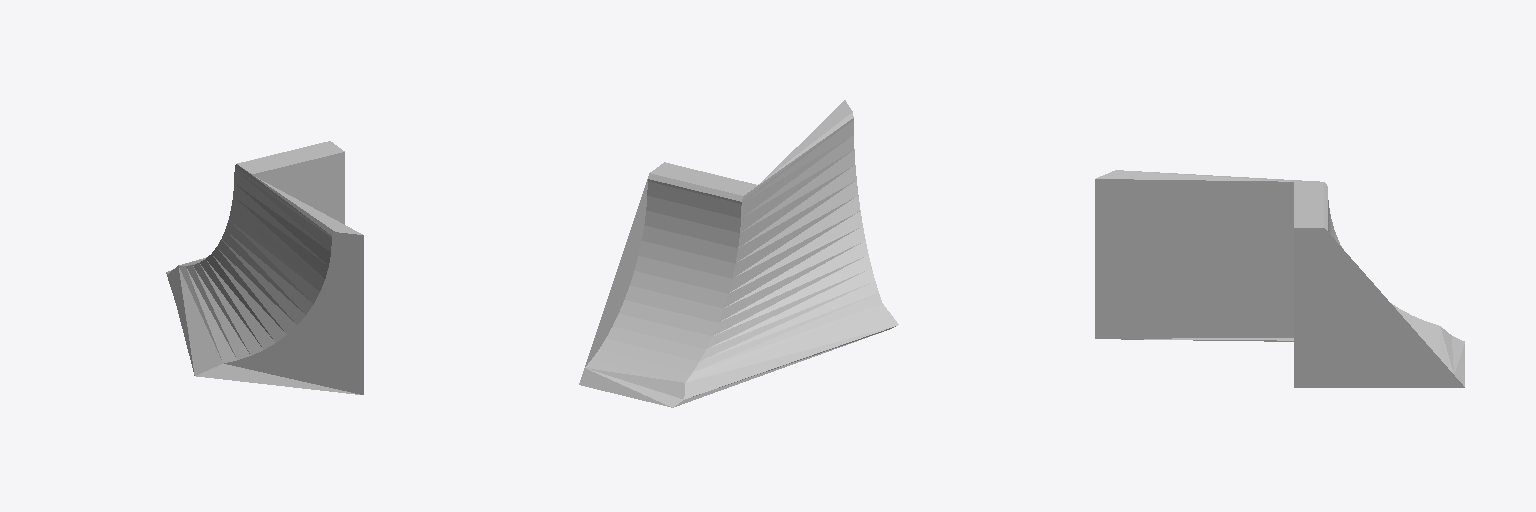
Rendered from wallridecement.obj.
The picture shows the model from 3 angles: view 1: azimuth 30°, elevation 25°; view 2: azimuth 150°, elevation 25°; view 3: azimuth 270°, elevation 25°; orthographic projection.
Parts seen in each view (by area): view 1: Cube.007; view 2: Cube.007; view 3: Cube.007.
Part boxes in pixels (x1,y1,x2,y2): Cube.007: (166, 141, 363, 394); Cube.007: (579, 100, 898, 407); Cube.007: (1095, 170, 1464, 387).
Size of the model in its own units: 1.4 by 1.18 by 2.34.